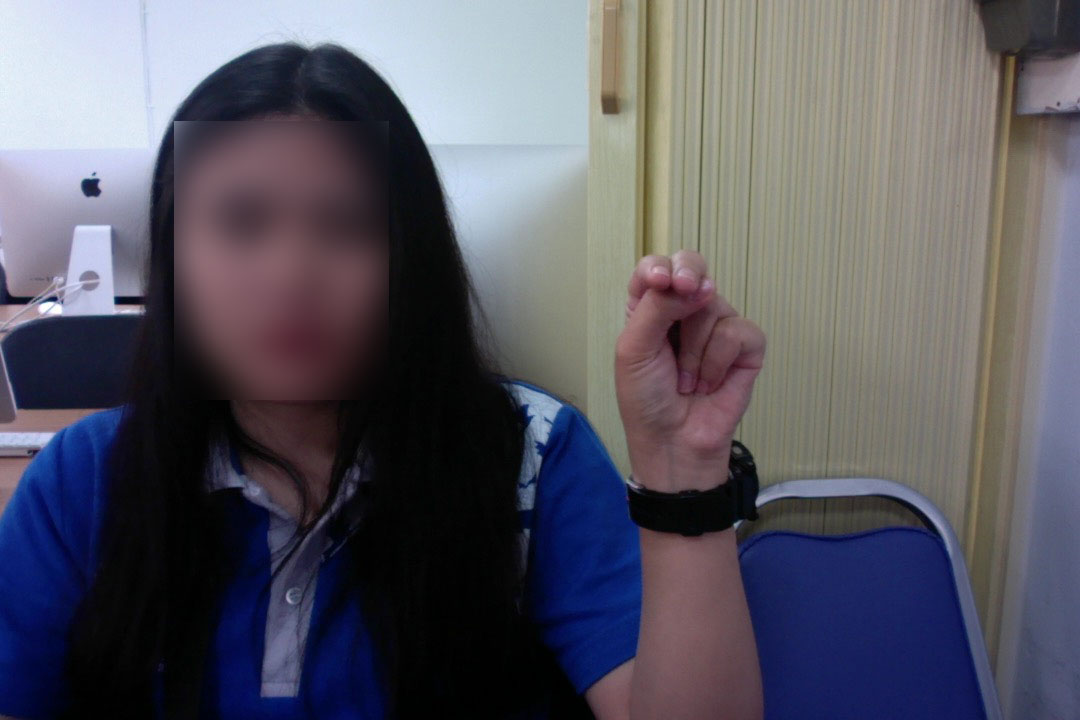nor: (608, 245, 772, 463)
